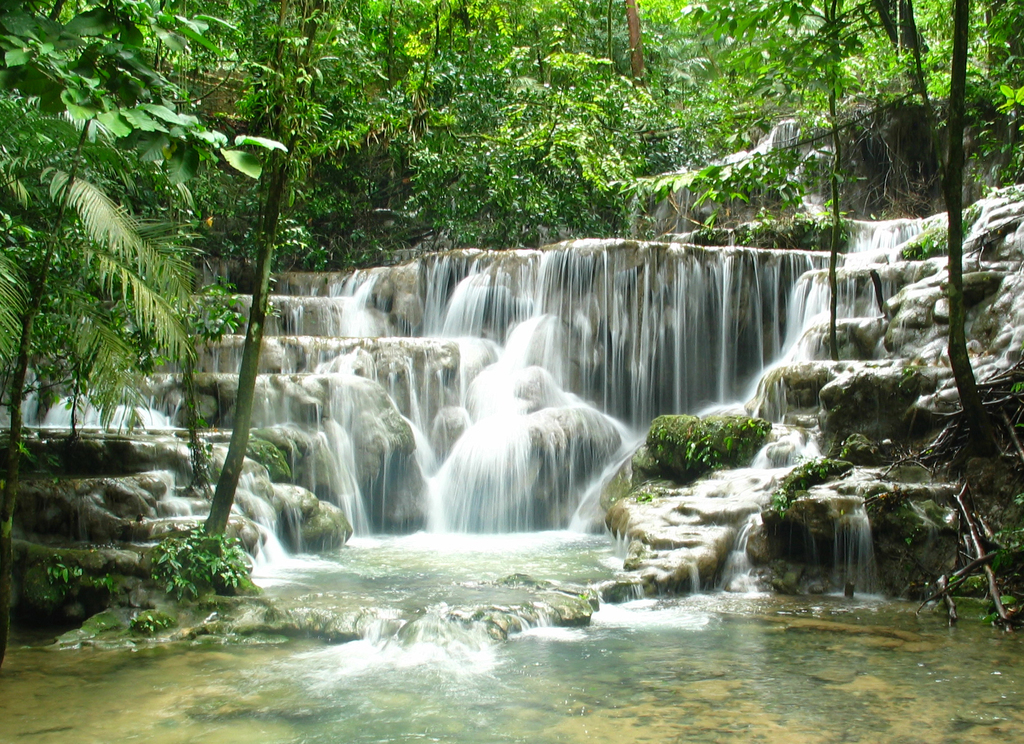Tree: (0, 0, 1023, 667)
